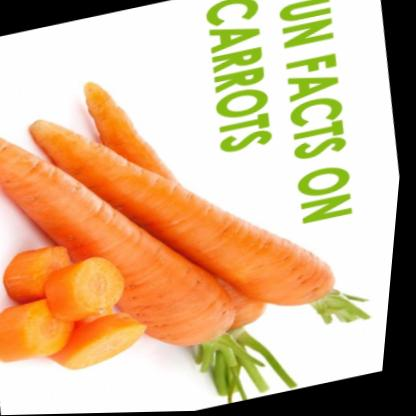--: (15, 51, 409, 397), (0, 287, 92, 381), (53, 309, 167, 384), (49, 245, 136, 332)
